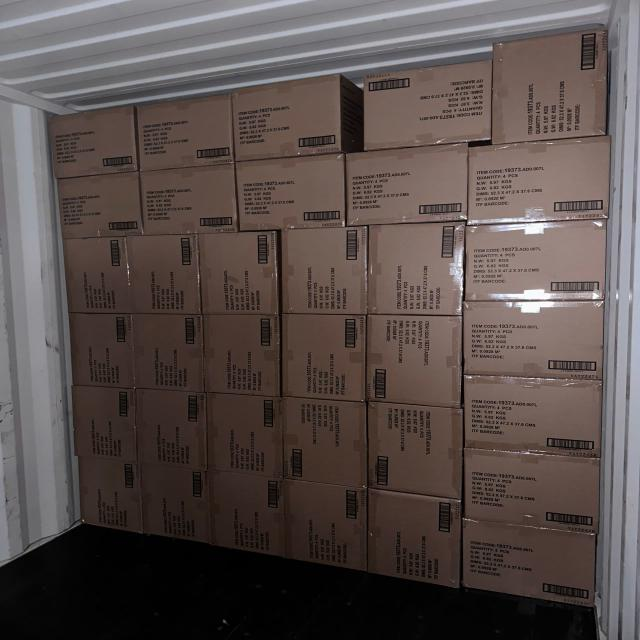Carton: (491, 30, 606, 143), (461, 520, 596, 610), (362, 55, 492, 148), (467, 140, 610, 223), (463, 222, 608, 301), (463, 304, 608, 381), (462, 449, 600, 528), (463, 378, 604, 455), (345, 150, 467, 229), (369, 490, 462, 591), (368, 402, 463, 500), (235, 80, 344, 164), (364, 317, 460, 411), (368, 225, 464, 319), (239, 159, 348, 234), (280, 398, 366, 488), (279, 229, 365, 318), (279, 314, 365, 403), (283, 485, 366, 576), (136, 100, 233, 173), (198, 232, 278, 318), (208, 474, 285, 560), (140, 169, 236, 237), (202, 316, 280, 398), (206, 394, 282, 478), (47, 110, 139, 179), (131, 236, 203, 318), (136, 389, 208, 471), (130, 315, 203, 395), (56, 176, 142, 241), (61, 238, 128, 318), (66, 314, 134, 392), (140, 473, 210, 548), (76, 458, 143, 536), (70, 387, 136, 465)
